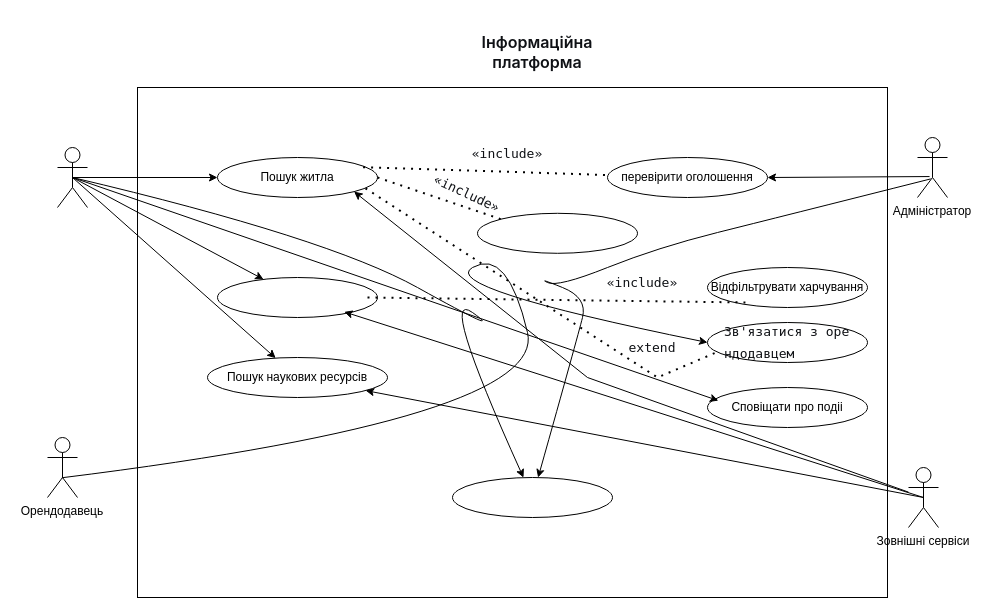
Some shapes in this 990 by 615 pixel diagram are drawn without their labels. Here are the shapes that lost their labels. From the top down, the centre of each, then its label:
the point at 72,177: Студент / Дослідник
the point at 557,232: Відфільтрувати житло
the point at 297,297: Пошук ваіантів харчування
the point at 532,497: Управління аккаунтом
